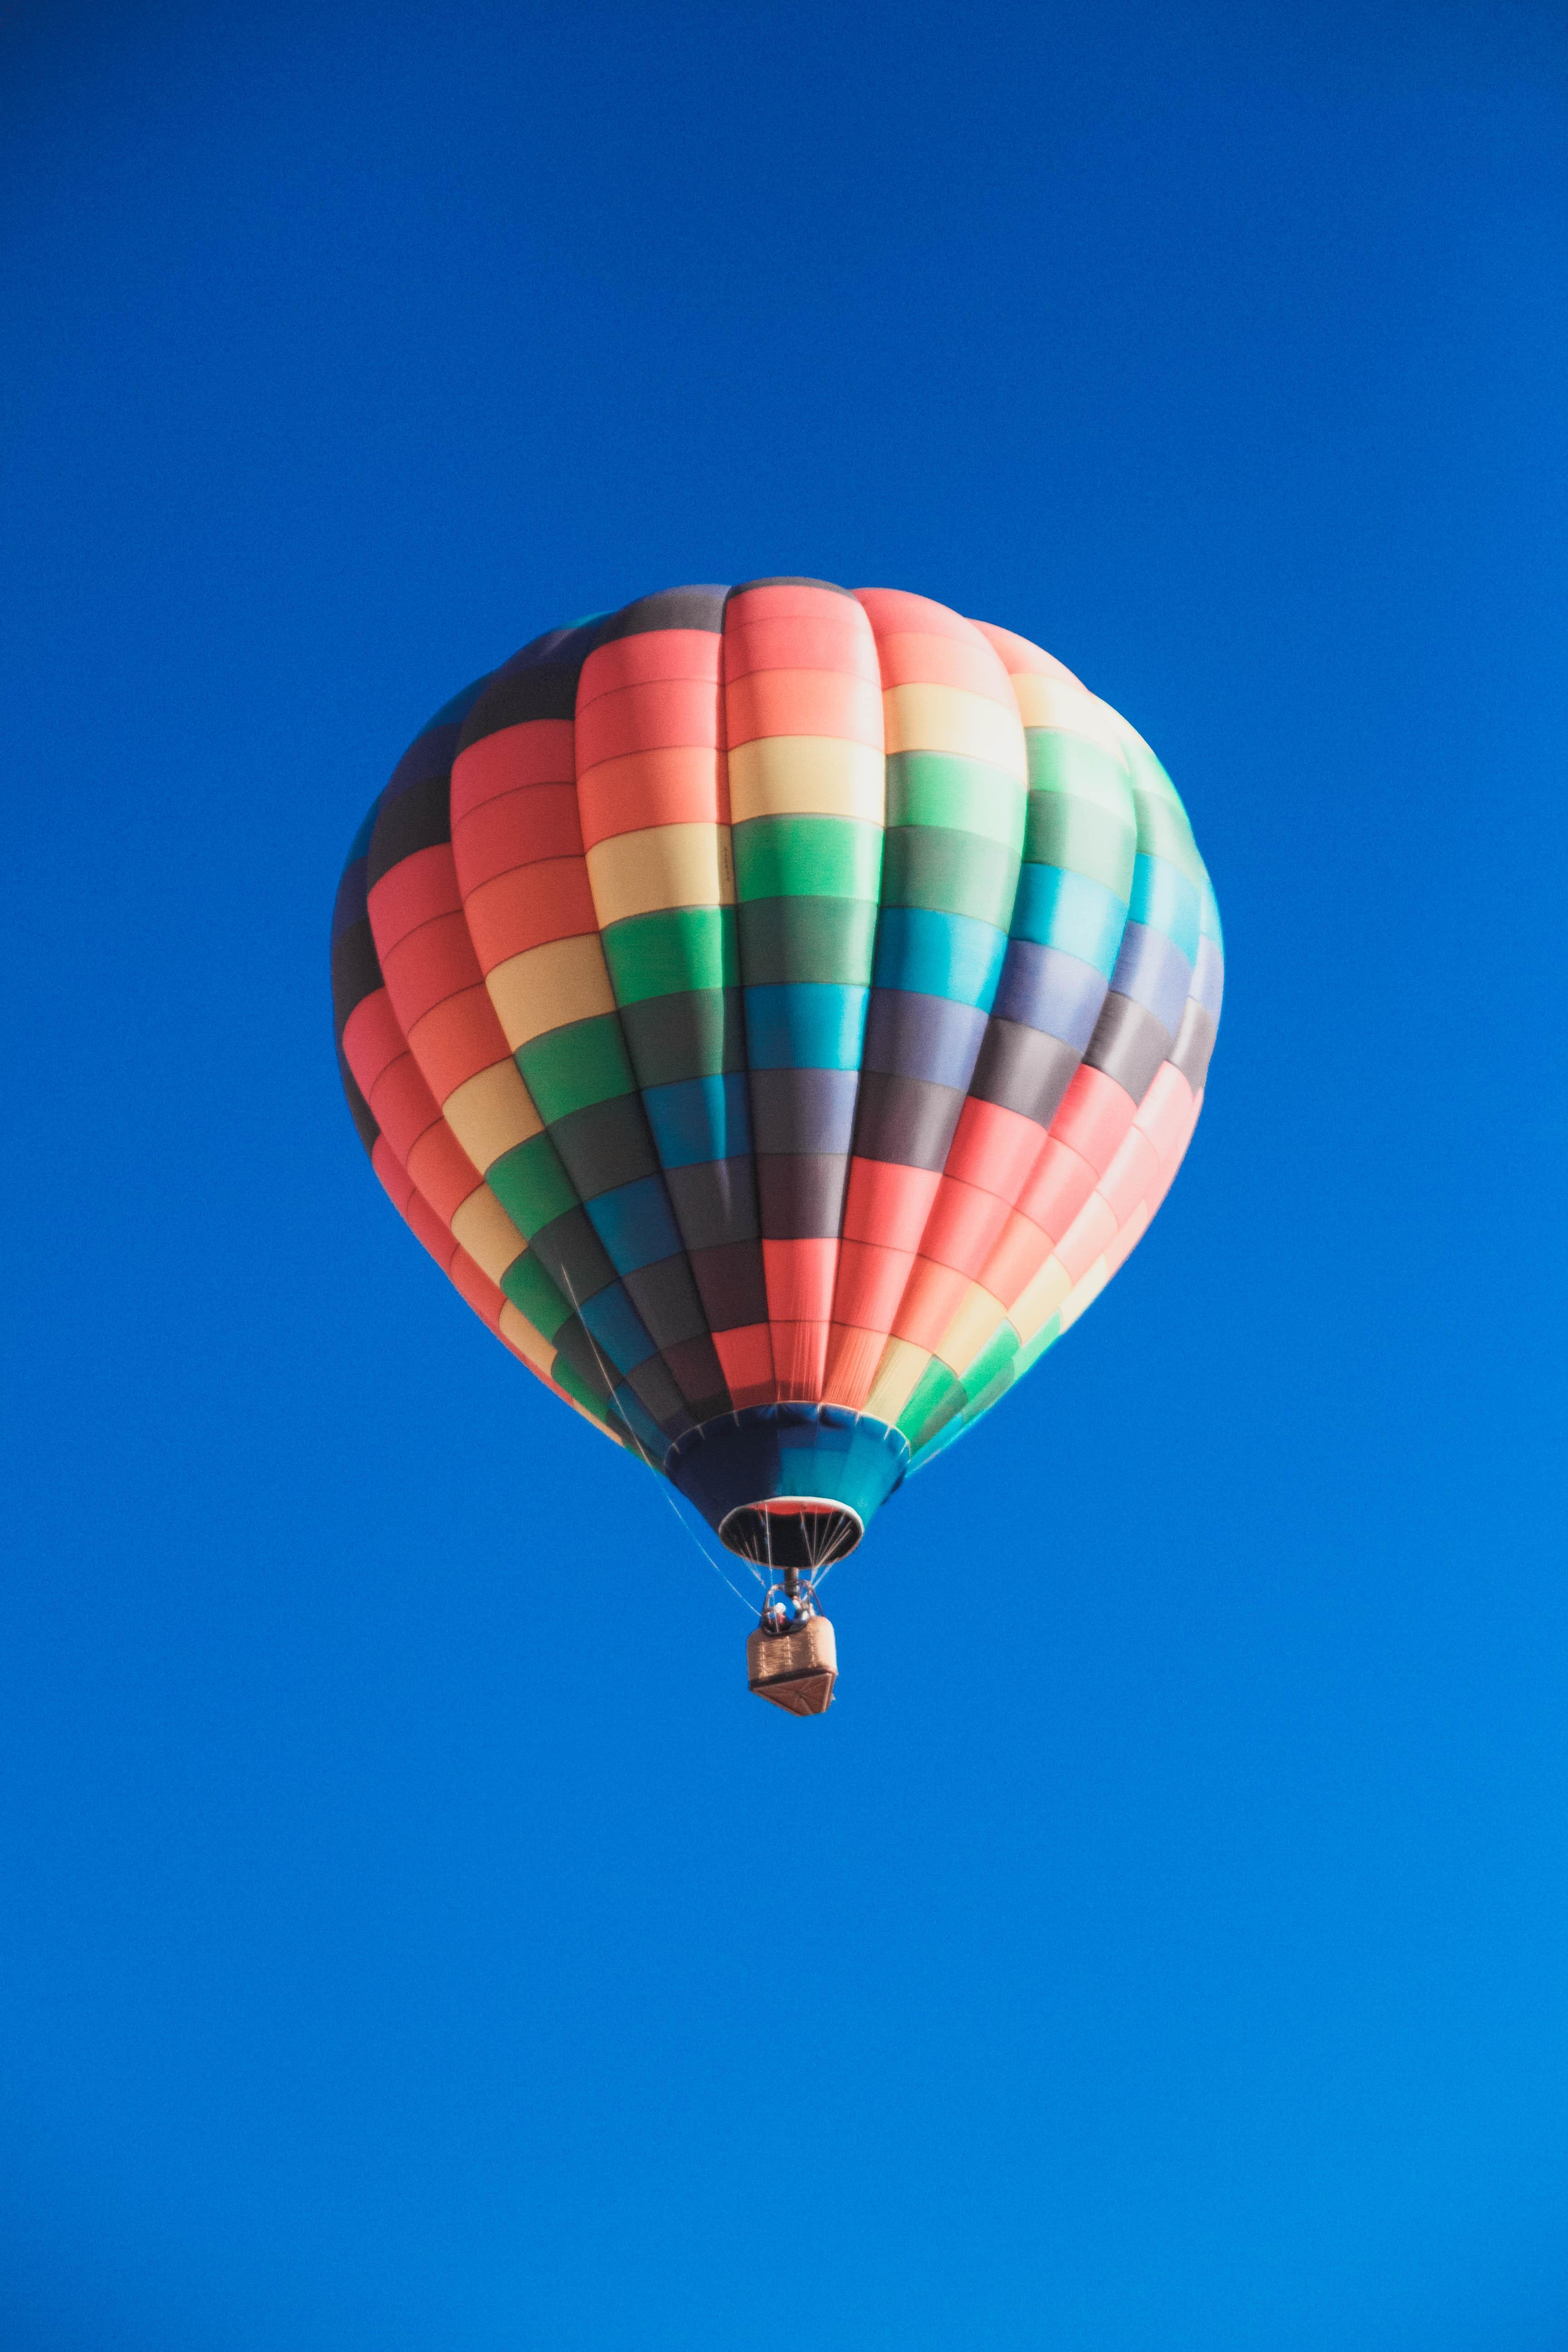hot air ballon: (315, 553, 1244, 1743)
